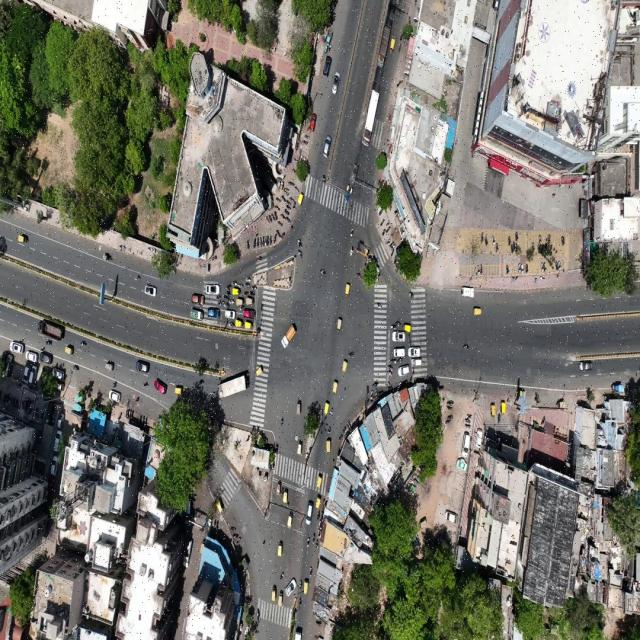3W: (334, 316, 345, 334), (102, 358, 115, 373), (330, 376, 339, 396), (215, 499, 225, 517), (297, 437, 304, 459), (315, 472, 324, 489), (276, 541, 284, 560), (473, 303, 483, 318), (270, 584, 277, 605), (343, 282, 351, 300), (286, 512, 294, 530), (16, 233, 28, 245), (489, 400, 496, 420), (297, 193, 307, 207), (340, 359, 349, 374), (325, 438, 332, 457), (500, 400, 508, 416), (391, 39, 398, 56), (255, 365, 264, 378), (275, 479, 281, 498), (296, 399, 303, 415), (403, 324, 414, 334), (323, 400, 329, 418), (64, 344, 73, 356), (278, 587, 283, 608), (303, 579, 309, 596), (315, 494, 321, 510), (283, 489, 289, 504), (236, 297, 245, 306), (246, 298, 255, 307), (244, 320, 251, 331), (232, 288, 241, 296), (236, 319, 242, 328)
Cars: (443, 504, 461, 529), (322, 133, 336, 159), (331, 70, 344, 95), (459, 283, 476, 302), (319, 56, 332, 79), (461, 432, 472, 459), (154, 377, 168, 396), (305, 499, 314, 528), (307, 112, 319, 133), (285, 578, 297, 598), (576, 359, 594, 372), (53, 430, 63, 453), (9, 339, 24, 354), (134, 360, 150, 374), (190, 293, 206, 307), (145, 283, 157, 301), (107, 389, 122, 403), (391, 330, 407, 343), (205, 283, 220, 296), (56, 409, 66, 428), (50, 456, 59, 477), (40, 350, 54, 363), (24, 348, 38, 361), (52, 367, 65, 380), (190, 308, 203, 321), (408, 345, 423, 356), (206, 308, 219, 320), (244, 307, 257, 319), (397, 365, 410, 376), (409, 357, 424, 366), (30, 364, 37, 383), (392, 348, 405, 358), (23, 362, 29, 383), (225, 309, 236, 319)
M2W: (102, 251, 113, 266), (279, 412, 285, 432), (80, 337, 89, 349), (407, 290, 416, 300), (255, 255, 264, 265), (142, 378, 150, 389), (463, 340, 470, 352), (297, 237, 304, 249), (305, 535, 311, 549), (357, 269, 363, 282), (308, 565, 314, 578), (505, 264, 511, 276), (386, 371, 394, 380), (280, 570, 286, 582), (72, 363, 80, 372), (319, 266, 326, 276), (297, 250, 304, 260), (539, 262, 544, 275), (476, 263, 480, 279), (447, 399, 456, 406), (525, 261, 529, 276), (515, 229, 519, 244), (561, 235, 566, 247), (358, 182, 363, 194), (390, 247, 395, 259), (322, 172, 327, 184), (348, 351, 356, 358), (480, 229, 484, 243), (378, 301, 383, 312), (547, 234, 553, 243), (491, 234, 495, 247), (517, 262, 521, 275), (350, 228, 355, 238), (349, 247, 354, 257), (467, 412, 474, 419), (465, 423, 472, 430), (396, 319, 402, 327), (544, 262, 548, 274), (387, 365, 395, 371), (135, 274, 141, 282), (274, 233, 278, 245), (537, 234, 542, 243), (349, 200, 354, 209), (312, 532, 315, 547), (298, 579, 302, 590), (448, 413, 455, 419), (465, 418, 472, 424), (398, 358, 404, 365), (245, 276, 252, 282), (302, 140, 308, 147), (447, 406, 455, 411), (445, 420, 453, 425), (229, 320, 234, 328), (508, 234, 511, 247), (260, 236, 263, 249), (481, 263, 484, 275), (521, 263, 524, 275), (381, 216, 385, 225), (299, 598, 302, 610), (252, 284, 258, 290), (250, 291, 256, 297), (225, 289, 231, 295), (230, 299, 236, 305), (271, 214, 275, 223), (275, 197, 281, 203), (291, 168, 297, 174), (304, 134, 310, 140), (46, 339, 51, 346), (286, 216, 291, 223), (280, 213, 285, 220), (288, 181, 295, 186), (290, 196, 295, 203), (532, 241, 535, 252), (558, 259, 561, 270), (246, 239, 249, 250), (254, 238, 257, 249), (387, 226, 391, 234), (265, 216, 269, 224), (287, 203, 291, 211), (390, 323, 396, 328), (496, 243, 499, 253), (390, 359, 396, 364), (232, 281, 237, 287), (244, 282, 250, 287), (243, 289, 248, 295), (218, 299, 223, 305), (224, 303, 229, 309), (223, 296, 229, 301), (269, 235, 272, 245), (277, 221, 282, 227), (294, 187, 299, 193), (381, 229, 385, 236), (282, 195, 286, 202), (226, 283, 232, 287), (216, 295, 222, 299), (239, 305, 243, 311), (294, 158, 298, 164), (239, 283, 243, 288), (265, 236, 267, 245), (283, 188, 289, 191), (386, 239, 390, 243)
Truck: (360, 88, 387, 151), (369, 22, 398, 70), (216, 371, 252, 403), (280, 319, 299, 354), (37, 318, 64, 342)
